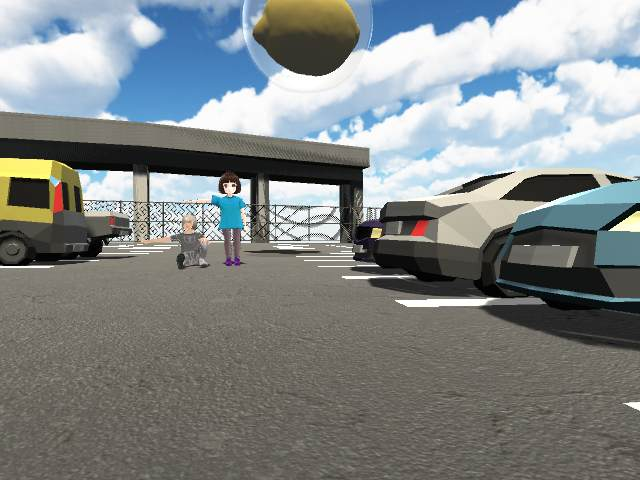doubleP_left: (137, 168, 248, 272)
